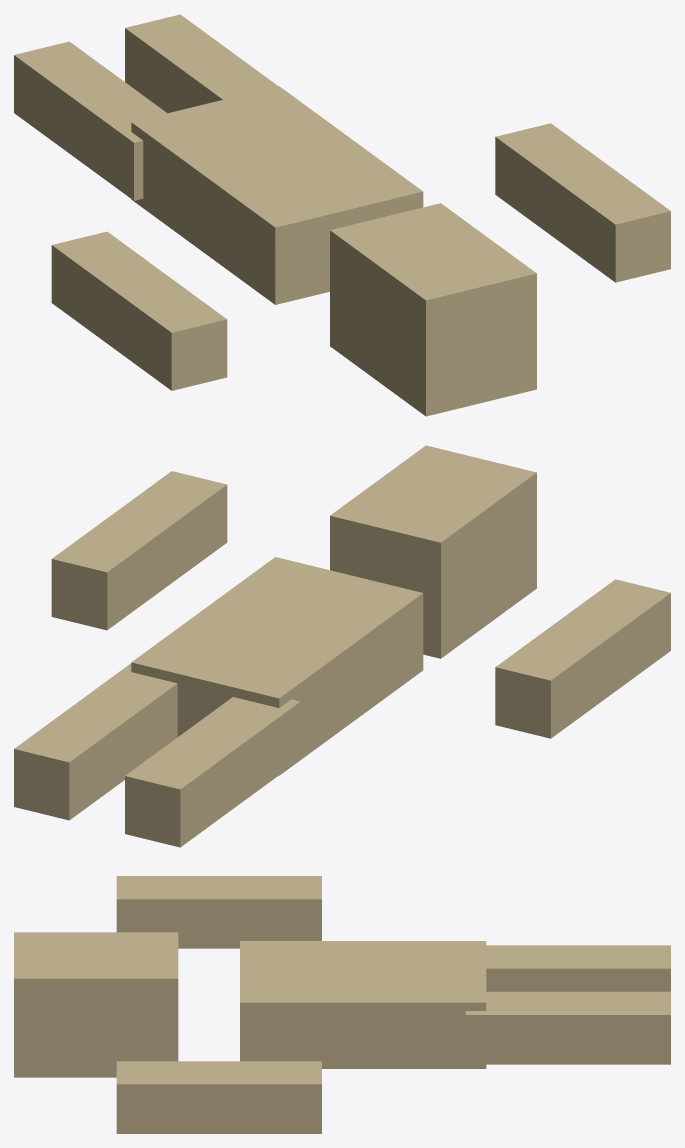
The model's file is mummy_enemy_hades.glb.
3 renders of one model, top to bottom at view 1: azimuth 30°, elevation 25°; view 2: azimuth 150°, elevation 25°; view 3: azimuth 270°, elevation 25°, orthographic. The views are drawn at different scales.
Parts seen in each view (by area): view 1: mummy_enemy; view 2: mummy_enemy; view 3: mummy_enemy.
Part boxes in pixels (<box>): mummy_enemy: <box>14,14,670,416</box>; mummy_enemy: <box>14,445,670,847</box>; mummy_enemy: <box>14,876,670,1133</box>.
Size of the model in its own units: 2.16 by 0.48 by 2.88.
